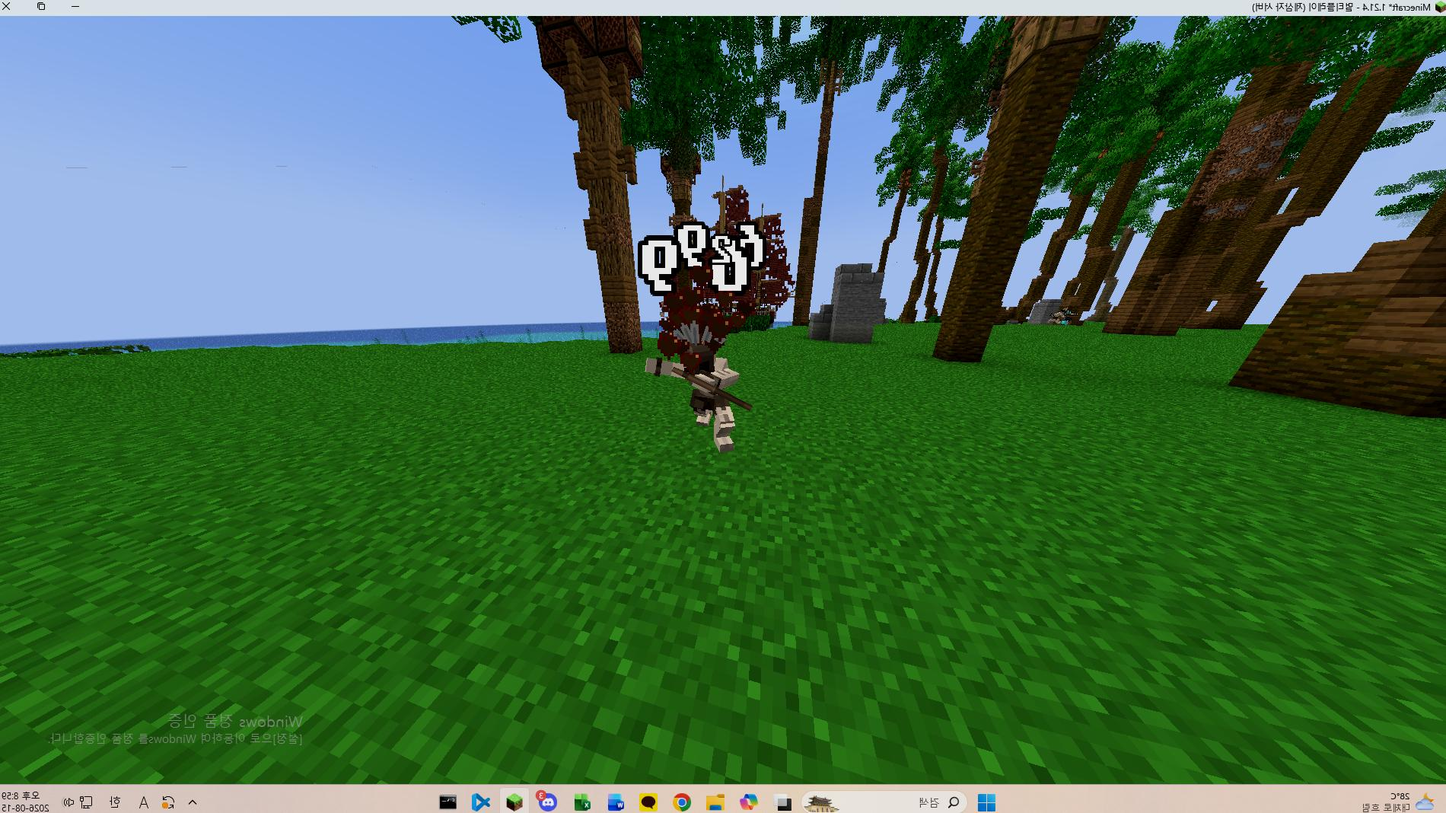bow_indian: (615, 317, 777, 479)
